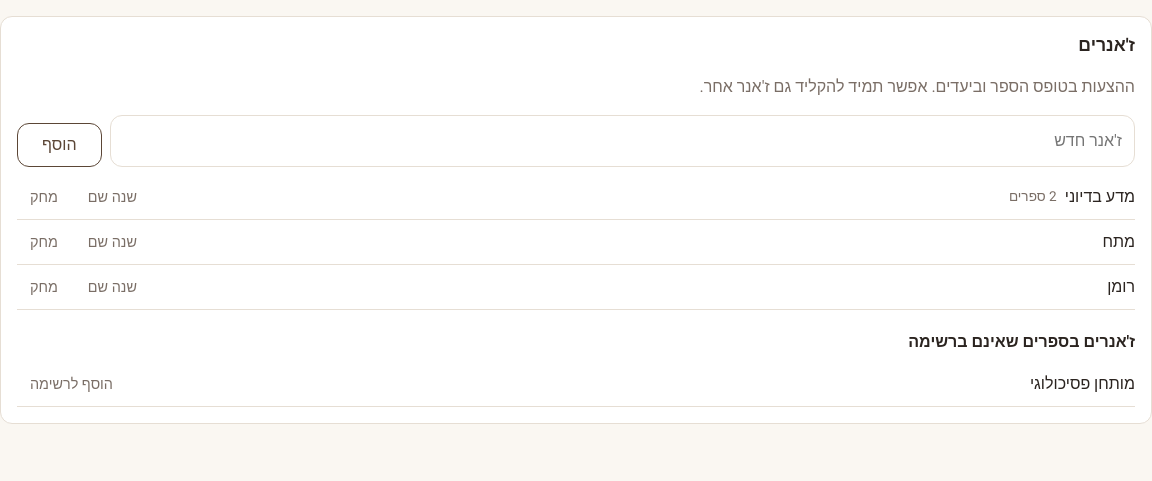
it: GenreManager — add › reports a failed save
The image size is (1152, 481).
In the field labelled "ז'אנר חדש": (622, 141) [110,115,1135,167], type "שירה"
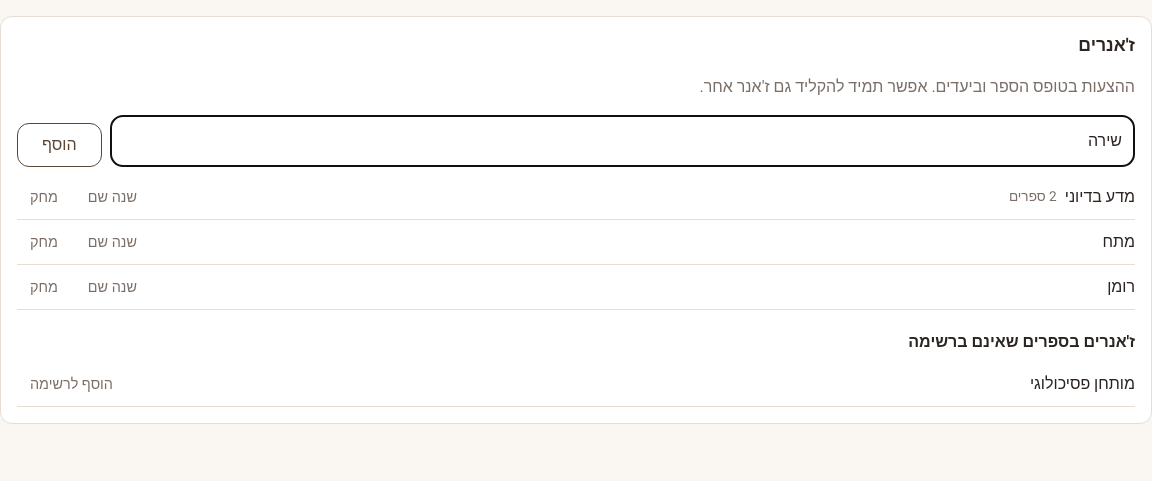
Click the button "הוסף": (59, 145) [17,123,102,167]
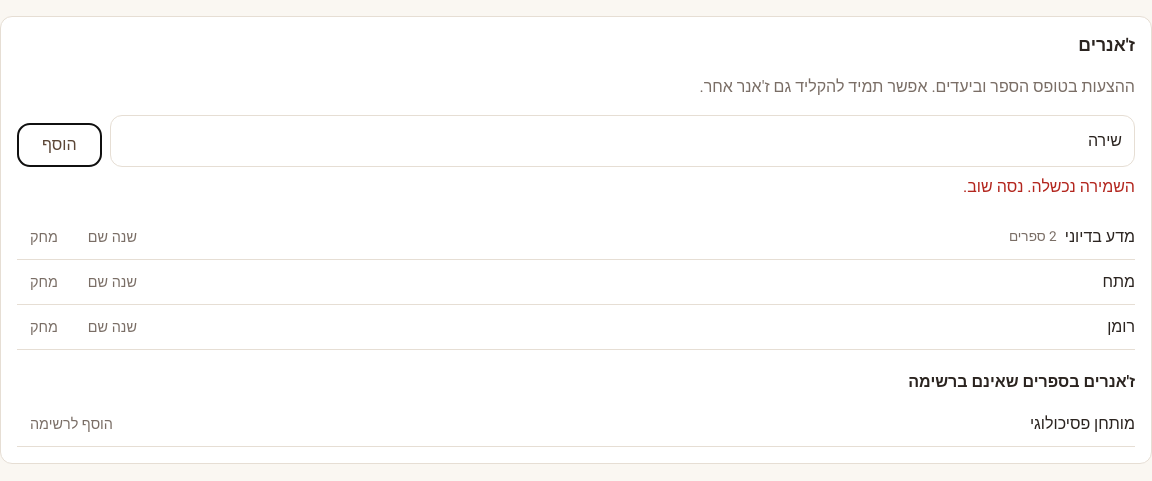
Check: the message shows "השמירה נכשלה", box [963,175,1135,199]
